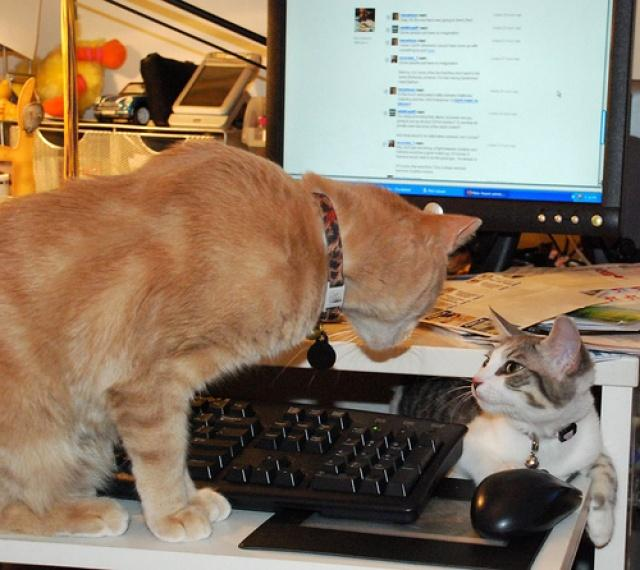AIO PC-Monitor-TV: (265, 0, 636, 238)
